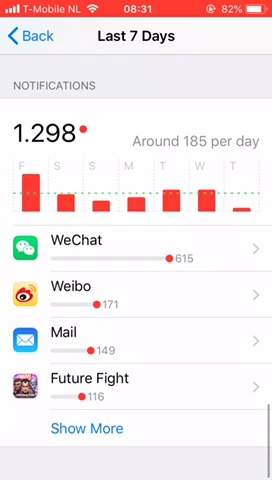not_app: (5, 225, 219, 272), (7, 272, 153, 318), (8, 364, 156, 409), (7, 321, 142, 363)
not_over: (4, 66, 113, 151)
week: (88, 26, 179, 46)
